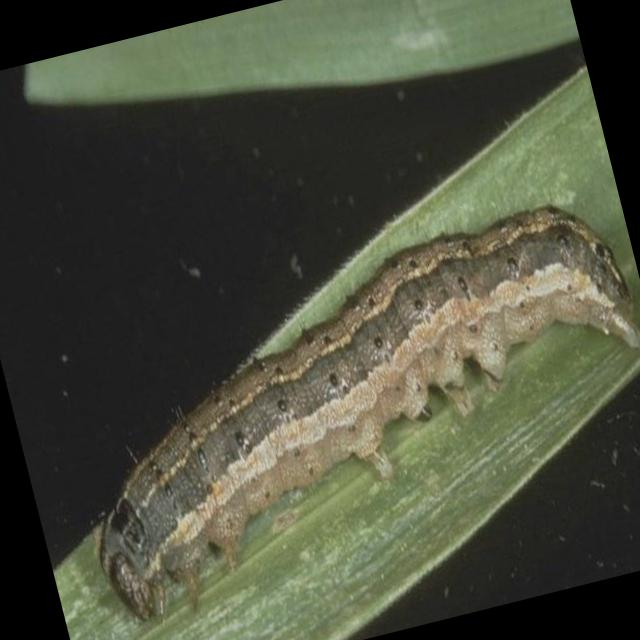pest: (53, 198, 640, 609)
